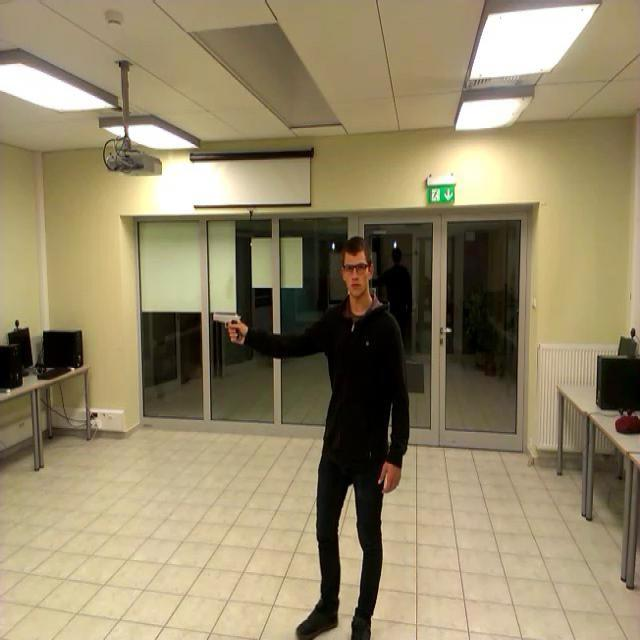weapon: (208, 309, 248, 346)
